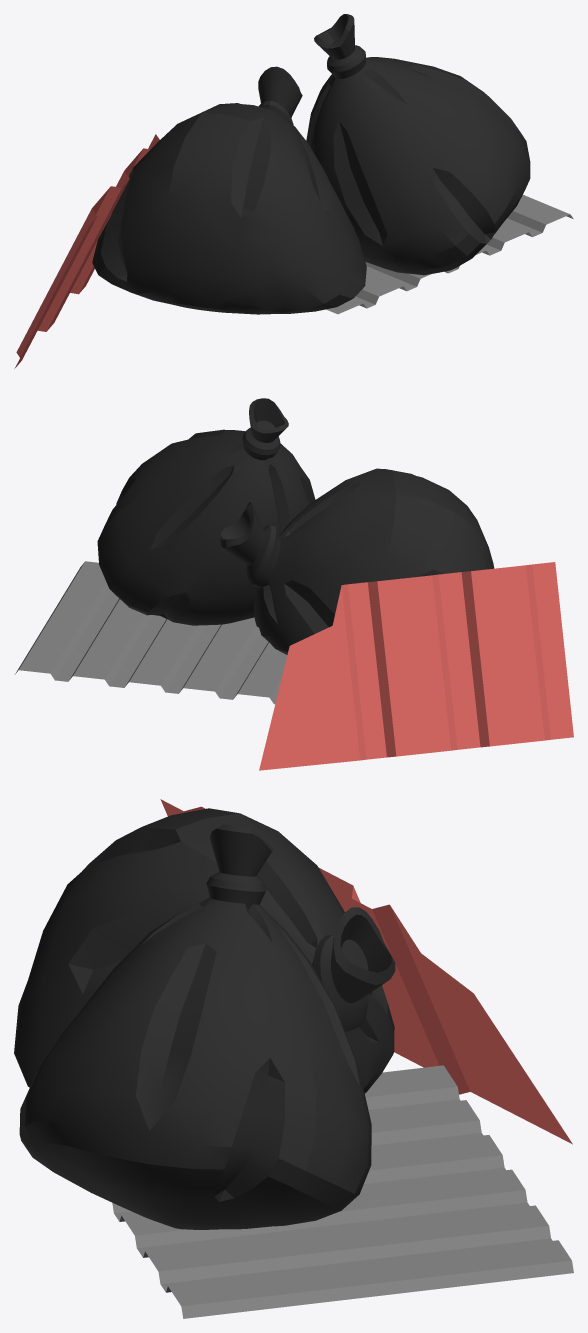
File: TrashMetal.glb
3 renders of one model, top to bottom at view 1: azimuth 30°, elevation 25°; view 2: azimuth 150°, elevation 25°; view 3: azimuth 270°, elevation 25°, orthographic. The views are drawn at different scales.
Parts seen in each view (by area): view 1: TrashBag_2, Debris_Pile; view 2: Debris_Pile, TrashBag_2; view 3: TrashBag_2, Debris_Pile.
Part boxes in pixels (x1,y1,x2,y2): TrashBag_2: (92, 14, 530, 314); Debris_Pile: (14, 134, 573, 368); Debris_Pile: (15, 561, 573, 770); TrashBag_2: (97, 398, 494, 654); TrashBag_2: (14, 808, 395, 1229); Debris_Pile: (112, 799, 573, 1318).
Bounding box in the file's own units: 1.24 × 0.6108 × 0.77.
Materials: 3 (1 with a texture image).
